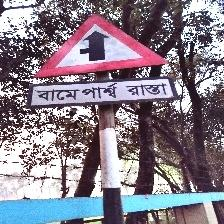Side-road-left: (29, 12, 177, 112)
